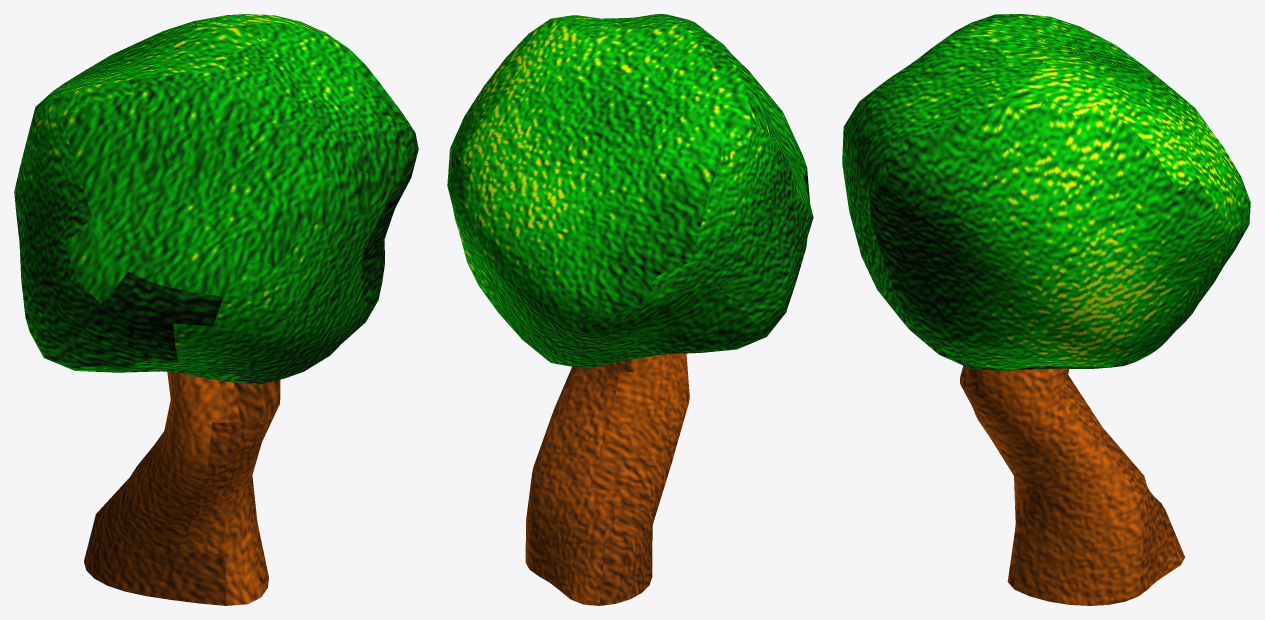
File: Tree0.FBX
3 renders of one model, left to right at view 1: azimuth 30°, elevation 25°; view 2: azimuth 150°, elevation 25°; view 3: azimuth 270°, elevation 25°, orthographic. The views are drawn at different scales.
Parts seen in each view (by area): view 1: Sphere001; view 2: Sphere001; view 3: Sphere001.
Boxes of the visible parts, x1,y1,x2,y2 form: Sphere001: [14, 14, 418, 605]; Sphere001: [447, 14, 813, 605]; Sphere001: [842, 14, 1250, 605].
Size of the model in its own units: 8.54 by 12.77 by 8.96.
1 material, 1 textured.
